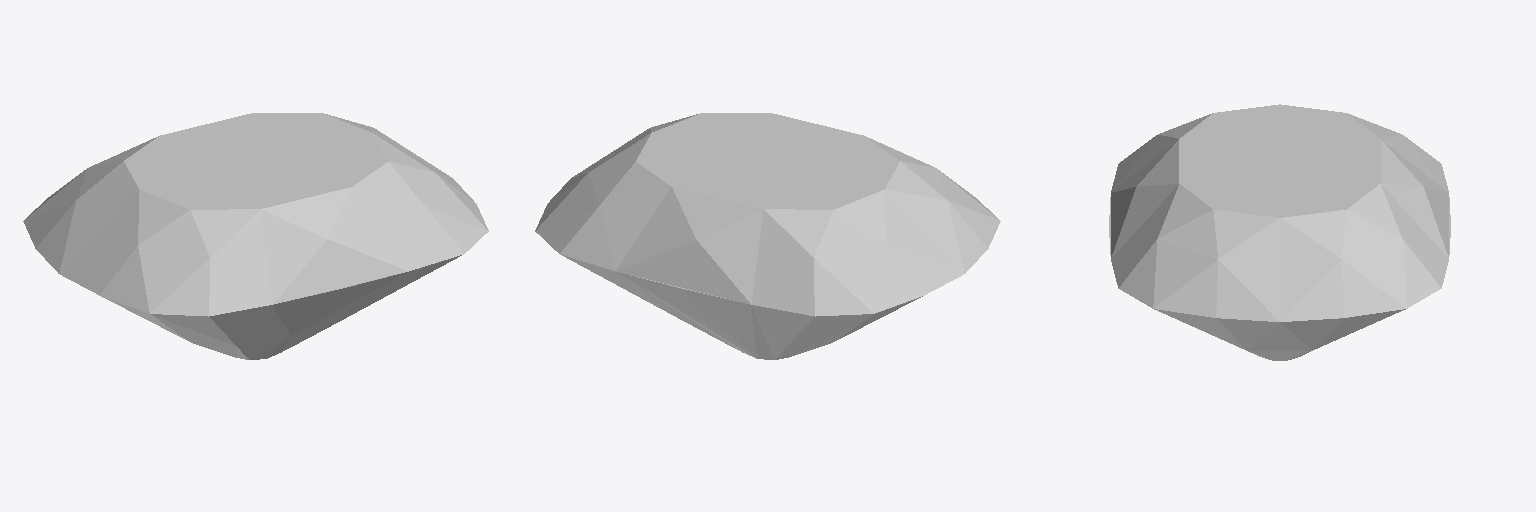
The model's file is banjarmasin.obj.
3 renders of one model, left to right at view 1: azimuth 30°, elevation 25°; view 2: azimuth 150°, elevation 25°; view 3: azimuth 270°, elevation 25°, orthographic.
Parts seen in each view (by area): view 1: banjarmasin; view 2: banjarmasin; view 3: banjarmasin.
Part boxes in pixels (x1,y1,x2,y2): banjarmasin: (23,113,488,359); banjarmasin: (535,113,1000,359); banjarmasin: (1109,104,1450,360).
Size of the model in its own units: 2.63 by 1.21 by 1.98.